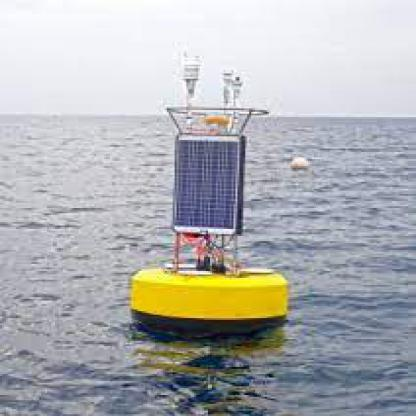buoy: (122, 45, 296, 334)
